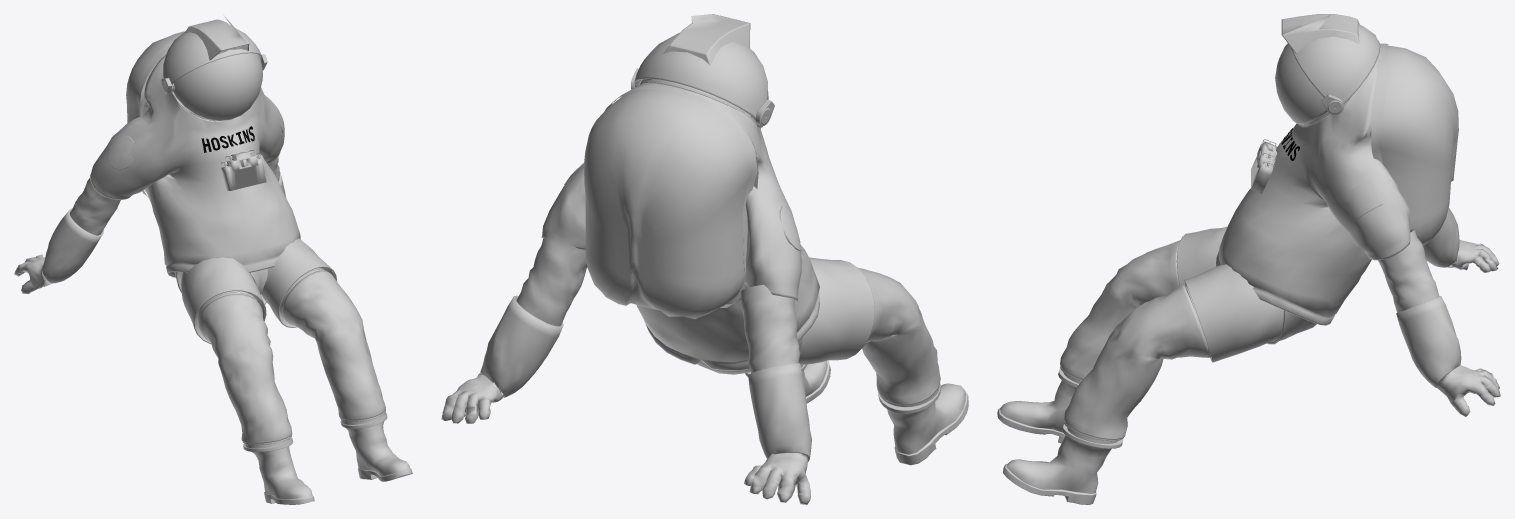
The model's file is Hoskins_Body.fbx.
The picture shows the model from 3 angles, left to right: view 1: azimuth 30°, elevation 25°; view 2: azimuth 150°, elevation 25°; view 3: azimuth 270°, elevation 25°; orthographic projection. The views are drawn at different scales.
Parts seen in each view (by area): view 1: Hoskins_Body; view 2: Hoskins_Body; view 3: Hoskins_Body.
Boxes of the visible parts, <box> form: Hoskins_Body: <box>14,16,412,504</box>; Hoskins_Body: <box>441,14,968,504</box>; Hoskins_Body: <box>997,14,1500,504</box>.
Bounding box in the file's own units: 1.14 × 1.62 × 1.59.
